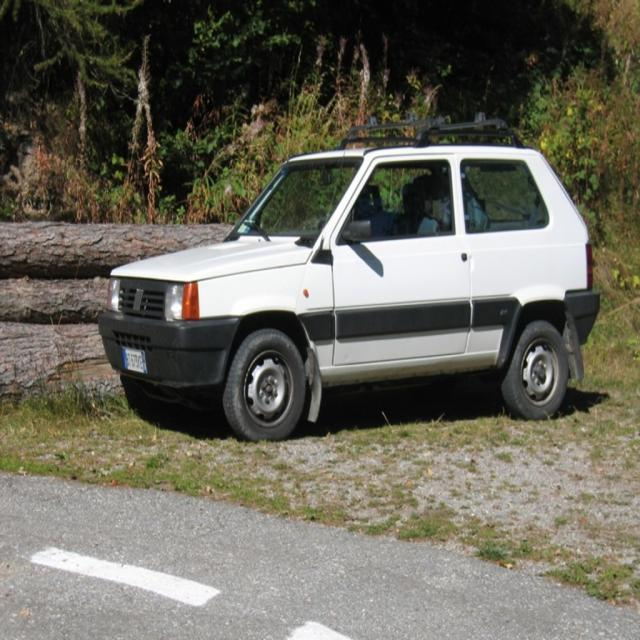car: (97, 109, 597, 444)
